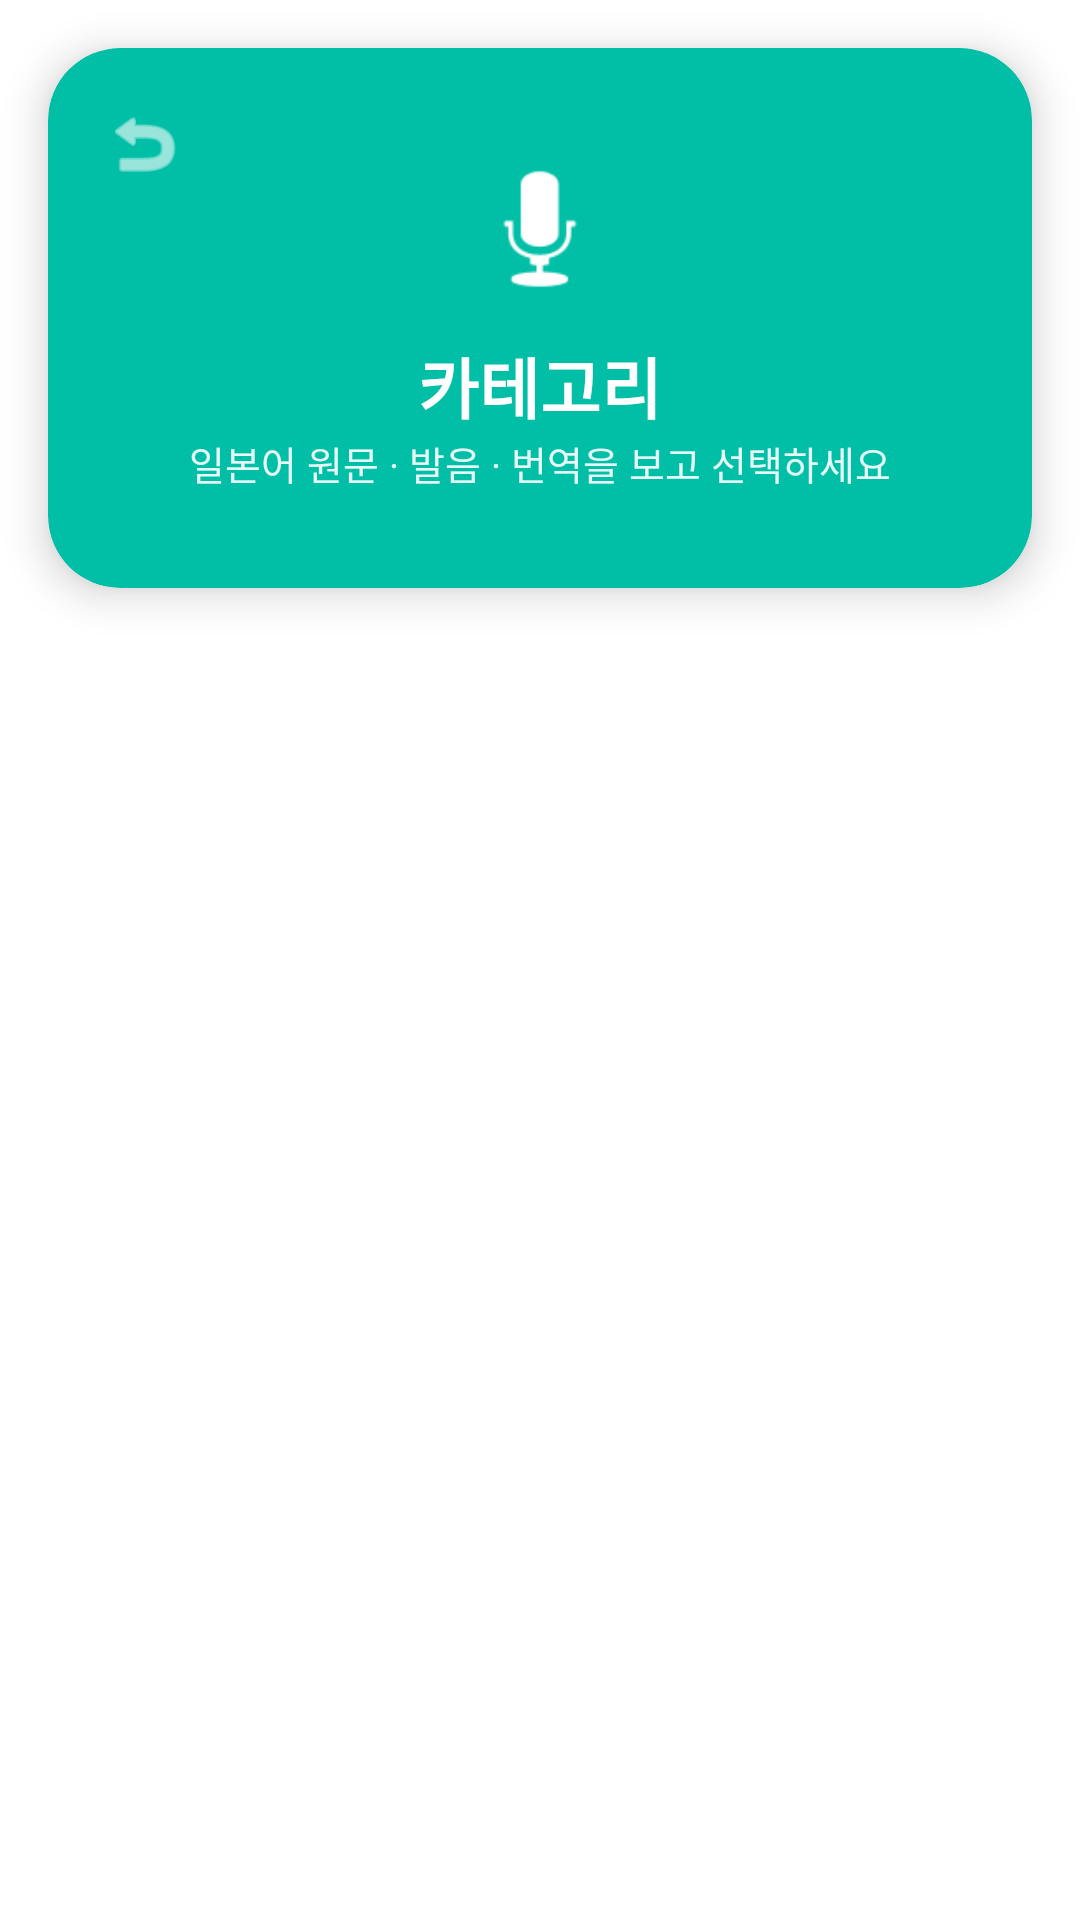

Named icons in this screenshot (1080 × 1920) and their bounding boxes, (x1,y1,x2,y2):
speak now: (503,171,577,287)
뒤로가기: (115,117,176,172)
